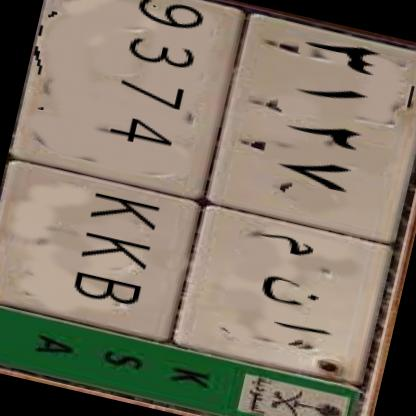english: (0, 0, 264, 349)
